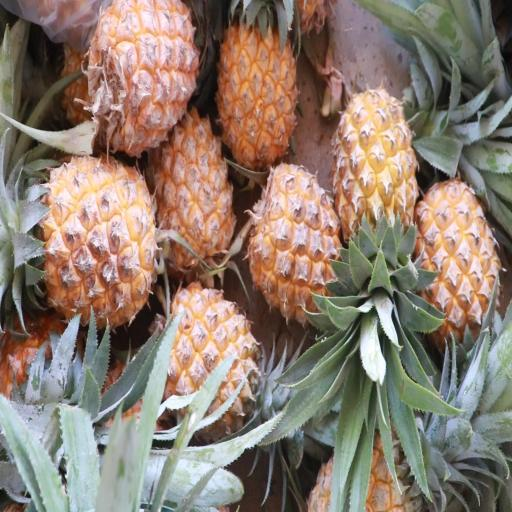Pineapple - v8 v1: (0, 148, 162, 326), (84, 1, 202, 159), (153, 281, 268, 439), (332, 83, 420, 280), (246, 158, 348, 327), (410, 174, 501, 362), (148, 102, 239, 279), (215, 0, 299, 184)
